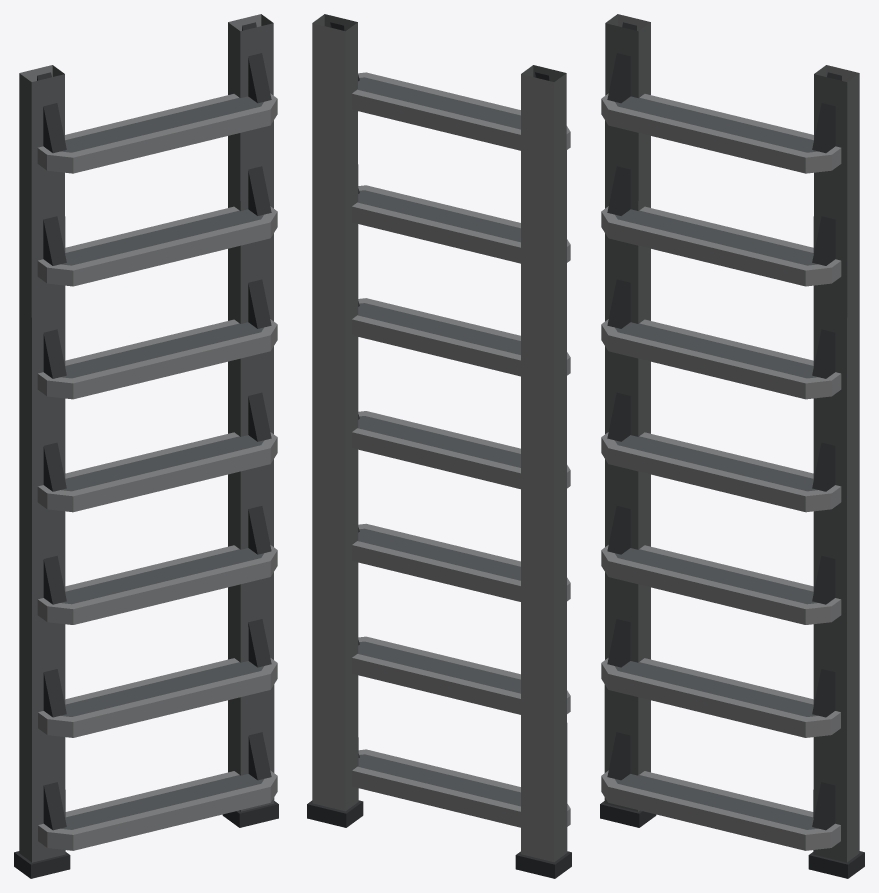
File: Ladder_002.fbx
3 renders of one model, left to right at view 1: azimuth 30°, elevation 25°; view 2: azimuth 150°, elevation 25°; view 3: azimuth 330°, elevation 25°, orthographic.
Visible parts, largest first — view 1: Ladder_002; view 2: Ladder_002; view 3: Ladder_002.
Part boxes in pixels (<box>): Ladder_002: <box>14,14,278,878</box>; Ladder_002: <box>307,14,571,878</box>; Ladder_002: <box>600,14,864,878</box>.
Size of the model in its own units: 119 by 28.22 by 364.
